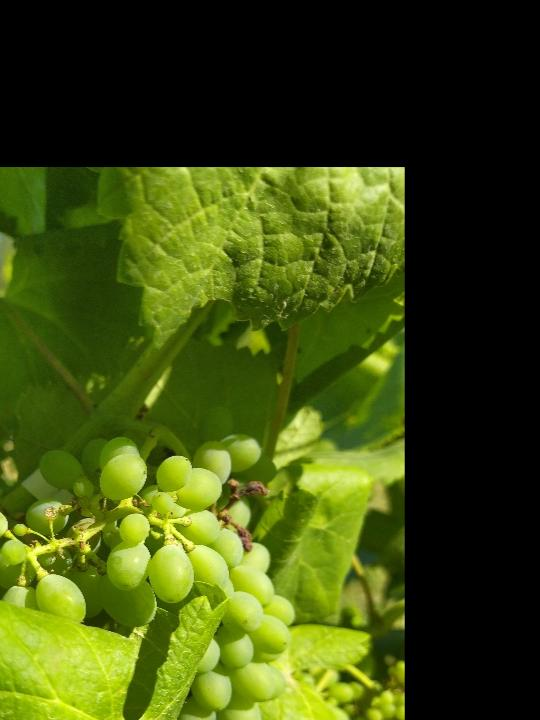grape: (0, 403, 297, 720)
